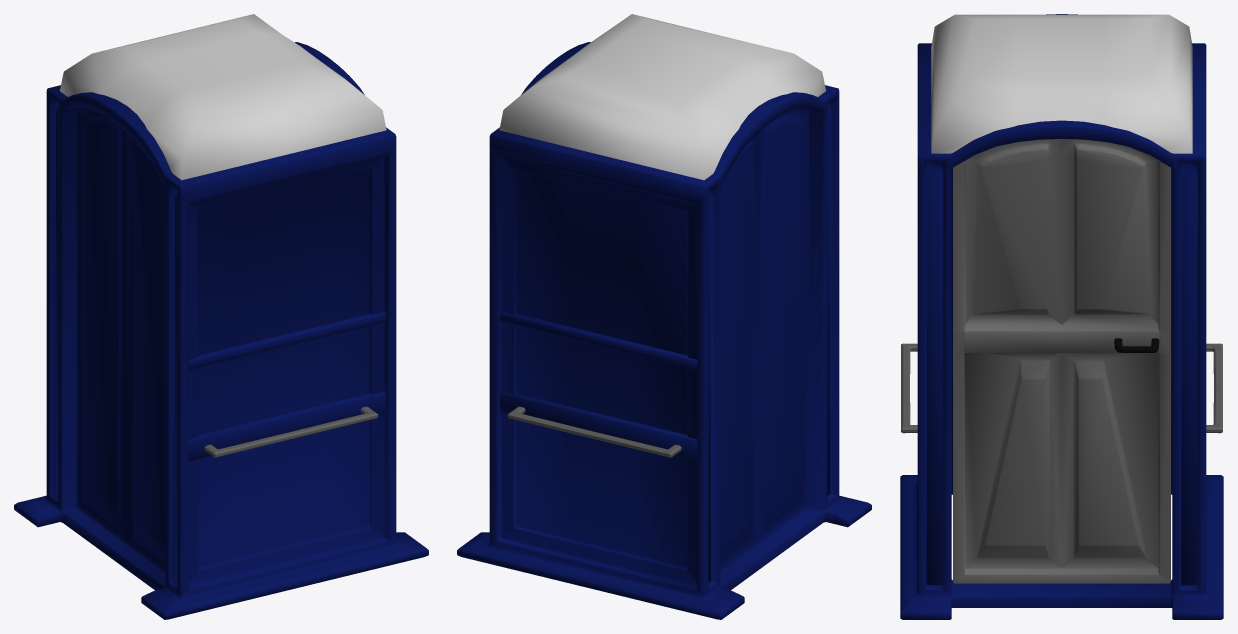
The picture shows the model from 3 angles, left to right: view 1: azimuth 30°, elevation 25°; view 2: azimuth 150°, elevation 25°; view 3: azimuth 270°, elevation 25°; orthographic projection. The views are drawn at different scales.
Visible parts, largest first — view 1: Toilet (×2), Toilet Top; view 2: Toilet (×2), Toilet Top; view 3: Door Hang, Toilet (×2), Toilet Top.
Part boxes in pixels (left/top/right/bottom): Toilet (×2): left=14, top=42, right=428, bottom=619; Toilet Top: left=60, top=14, right=386, bottom=180; Toilet (×2): left=457, top=42, right=871, bottom=619; Toilet Top: left=499, top=14, right=825, bottom=180; Door Hang: left=953, top=139, right=1170, bottom=583; Toilet (×2): left=900, top=14, right=1223, bottom=619; Toilet Top: left=931, top=14, right=1192, bottom=153.
Size of the model in its own units: 1.18 by 2 by 1.16.
